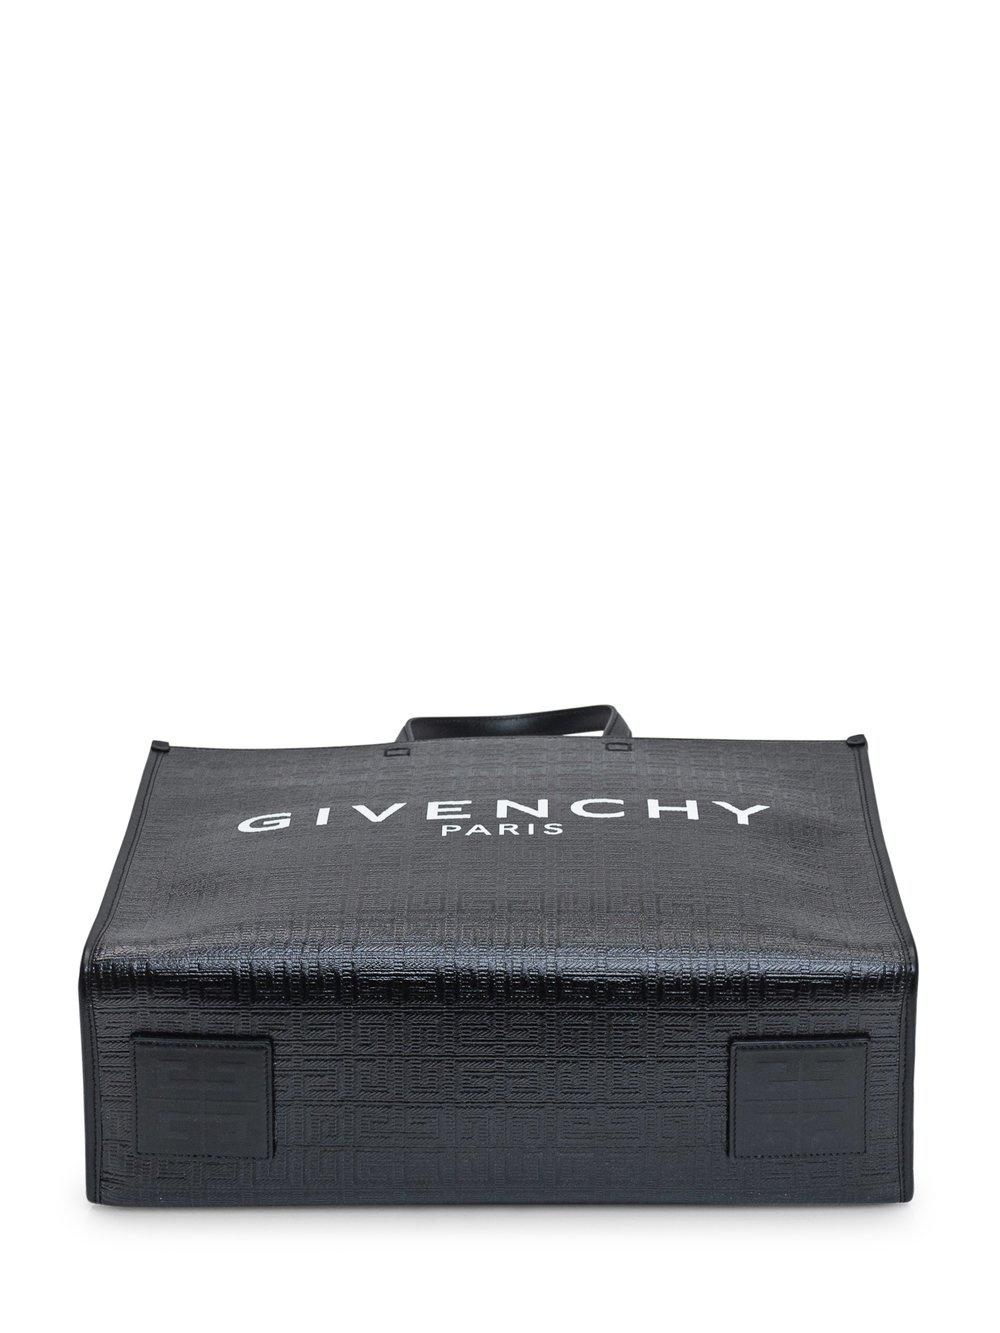GIVENCHY: (202, 762, 786, 868)
